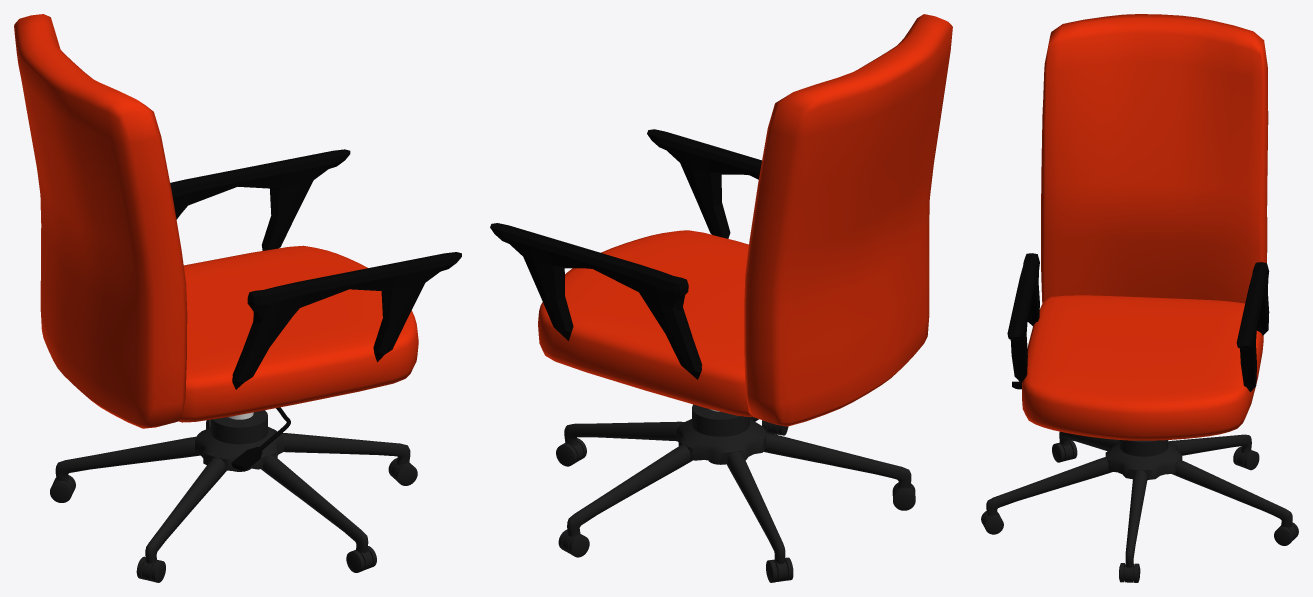
File: Chair.fbx
3 views of the same model, side by side, from view 1: azimuth 30°, elevation 25°; view 2: azimuth 150°, elevation 25°; view 3: azimuth 270°, elevation 25° (orthographic). The views are drawn at different scales.
Parts seen in each view (by area): view 1: Cube.069, Chair, Cylinder.002, Cube, Cube.001, BezierCurve.001; view 2: Cube.069, Chair, Cylinder.002, Cube.001, Cube; view 3: Cube.069, Chair, Cylinder.002, Cube.001, Cube.
Part boxes in pixels (x1,y1,x2,y2): Cube.069: (14, 14, 187, 428); Chair: (178, 245, 418, 422); Cylinder.002: (50, 410, 417, 582); Cube: (232, 252, 461, 389); Cube.001: (170, 149, 350, 250); BezierCurve.001: (231, 407, 290, 471); Cube.069: (744, 14, 952, 426); Chair: (538, 230, 752, 416); Cylinder.002: (556, 404, 915, 582); Cube.001: (490, 223, 702, 379); Cube: (647, 129, 761, 238); Cube.069: (1041, 14, 1268, 303); Chair: (1022, 295, 1263, 440); Cylinder.002: (981, 431, 1298, 582); Cube.001: (1236, 262, 1269, 391); Cube: (1007, 253, 1039, 383).
Bounding box in the file's own units: 232 × 298 × 203.
